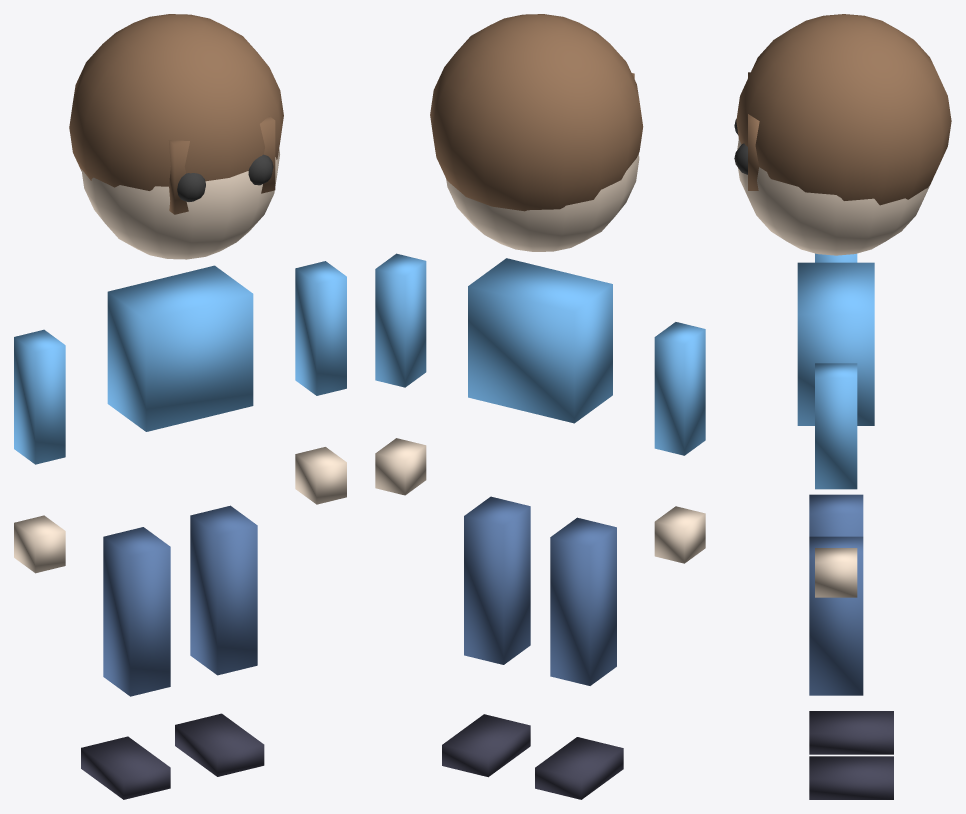
Rendered from player.glb.
3 views of the same model, side by side, from view 1: azimuth 30°, elevation 25°; view 2: azimuth 150°, elevation 25°; view 3: azimuth 270°, elevation 25° (orthographic).
Parts seen in each view (by area): view 1: Player; view 2: Player; view 3: Player.
Part boxes in pixels (x1,y1,x2,y2): Player: [14, 14, 346, 799]; Player: [375, 14, 705, 799]; Player: [734, 14, 951, 799].
Bounding box in the file's own units: 0.93 × 2.13 × 0.565.
